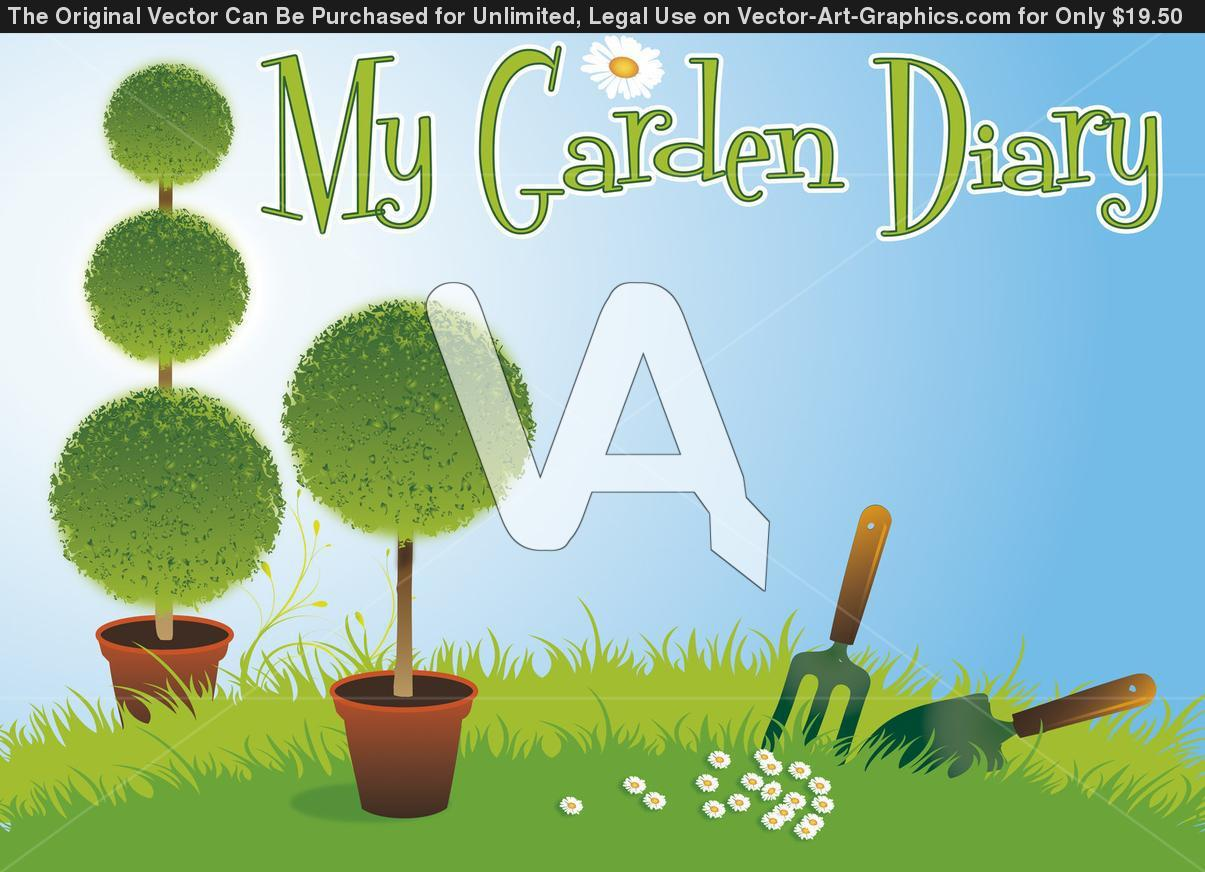pottedplant: (53, 61, 285, 733), (282, 298, 533, 829)
